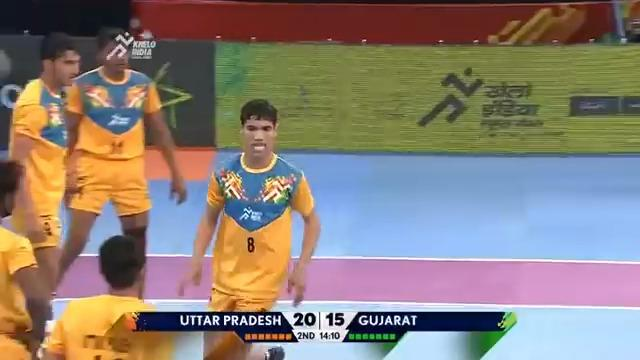Player: (51, 27, 187, 302), (188, 97, 321, 358), (7, 30, 83, 354), (44, 234, 171, 359), (0, 158, 50, 359)
referee: (263, 345, 285, 359)
